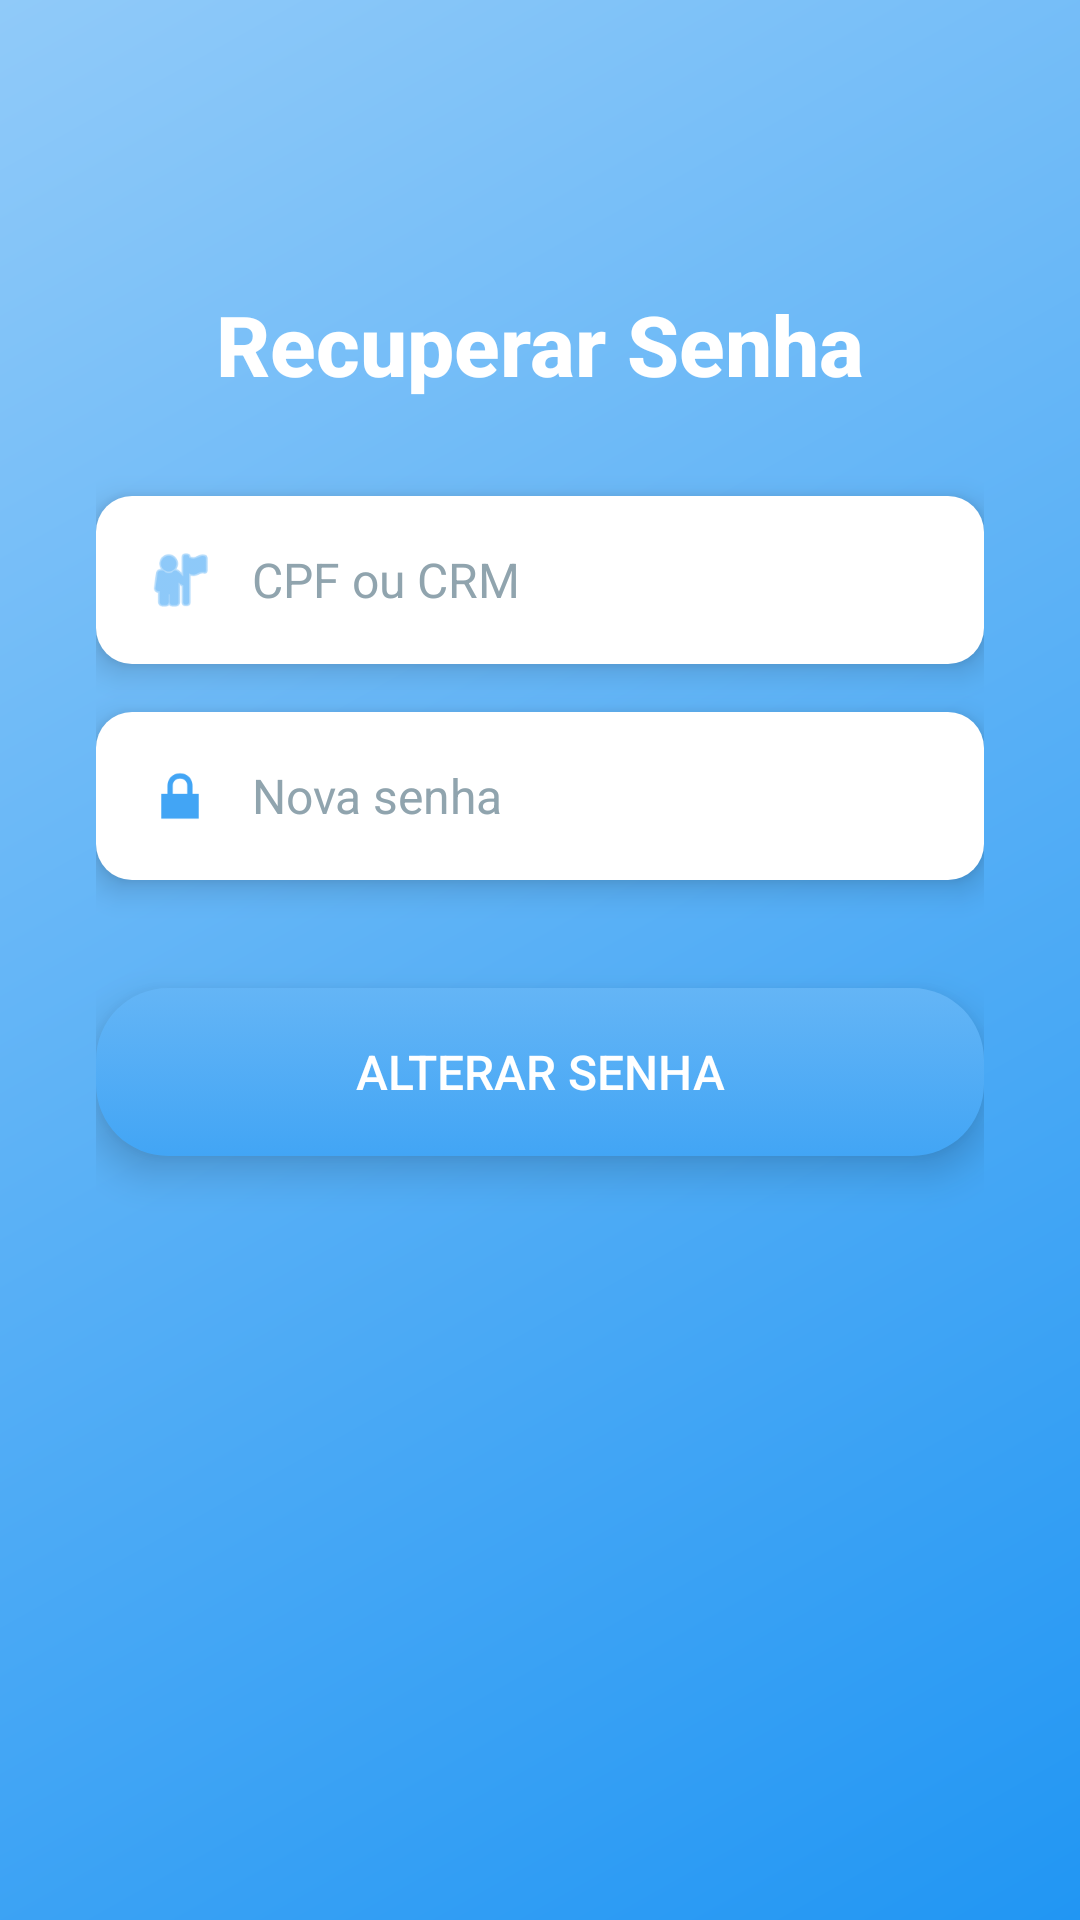

Screen size 1080 x 1920. Icon name, then its box in pixels as (x1, y1, x2, y2):
lock: (161, 773, 199, 819)
